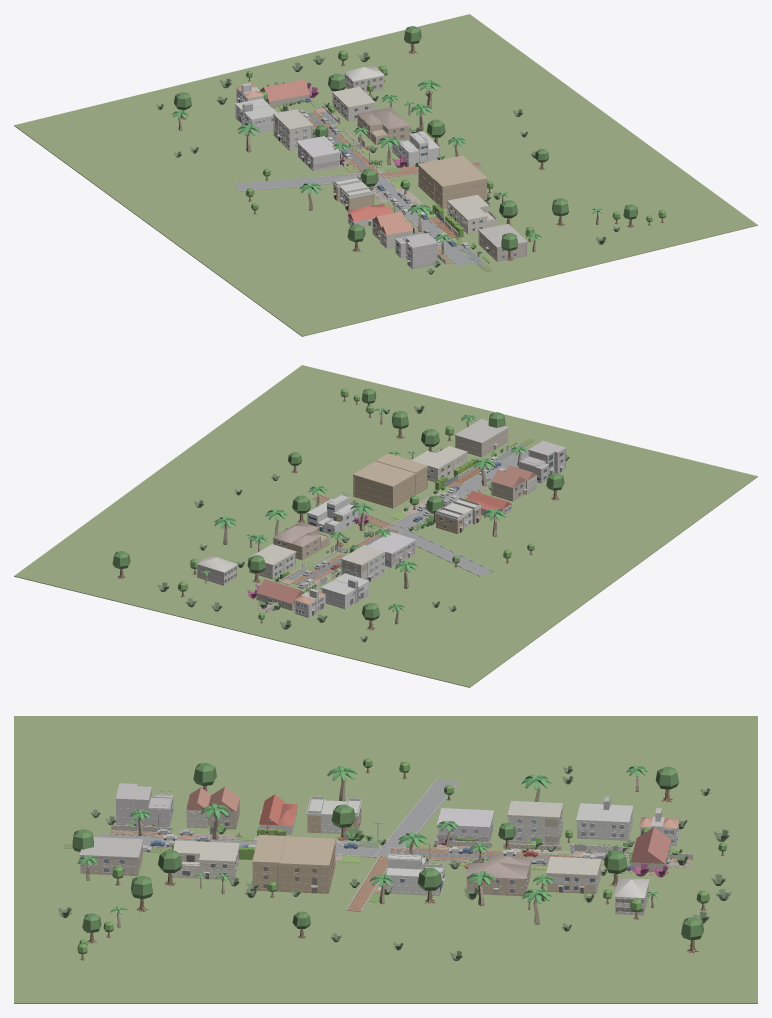
Rendered from world_test4.glb.
3 renders of one model, top to bottom at view 1: azimuth 30°, elevation 25°; view 2: azimuth 150°, elevation 25°; view 3: azimuth 270°, elevation 25°, orthographic. The views are drawn at different scales.
Bounding box in the file's own units: 210 × 11.3 × 230.
